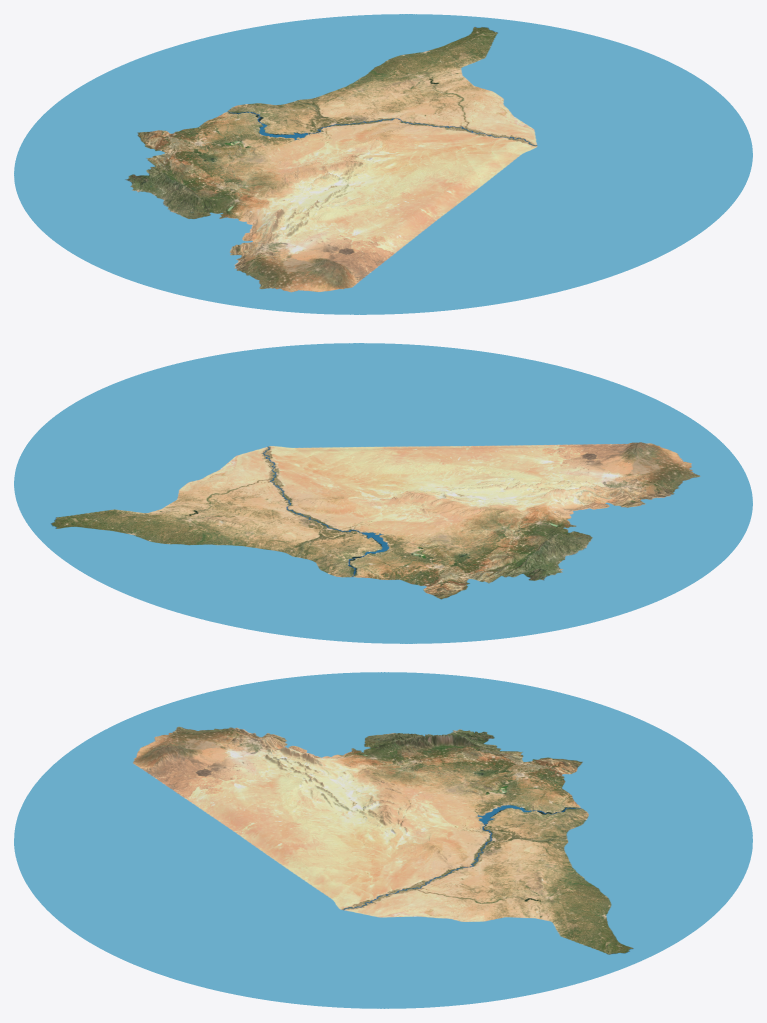
The model's file is SYR-previa-terrain.glb.
The picture shows the model from 3 angles, top to bottom: view 1: azimuth 30°, elevation 25°; view 2: azimuth 150°, elevation 25°; view 3: azimuth 270°, elevation 25°; orthographic projection. The views are drawn at different scales.
Visible parts, largest first — view 1: Síria; view 2: Síria; view 3: Síria.
Part boxes in pixels (left/top/right/bottom): Síria: left=14, top=14, right=752, bottom=314; Síria: left=14, top=343, right=752, bottom=643; Síria: left=14, top=672, right=752, bottom=1008.
Bounding box in the file's own units: 2.57 × 0.0505 × 2.39.
Materials: 1 (1 with a texture image).
